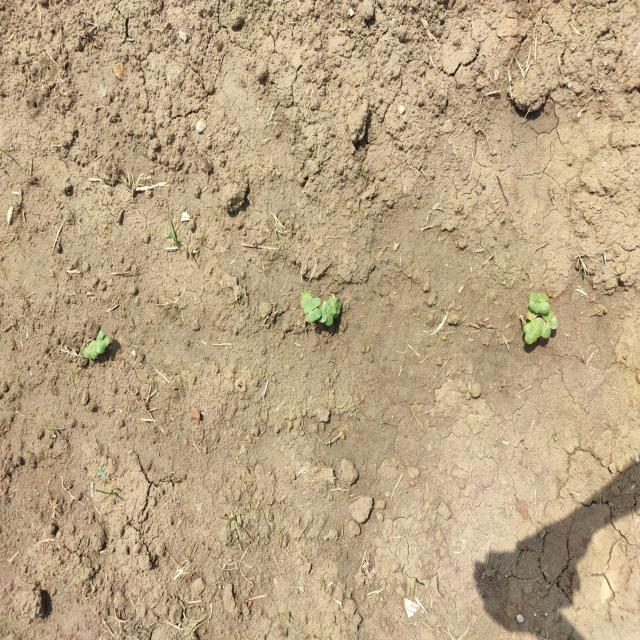seedling: (535, 317, 551, 339), (525, 326, 542, 344), (529, 300, 550, 314), (304, 297, 321, 314), (542, 311, 558, 329), (96, 335, 110, 354), (319, 301, 330, 323), (307, 308, 322, 323), (325, 306, 336, 326), (523, 320, 538, 334), (83, 340, 94, 358), (94, 330, 104, 349), (530, 293, 549, 302), (333, 298, 341, 319), (301, 296, 313, 308), (88, 346, 99, 359), (301, 291, 311, 300)
